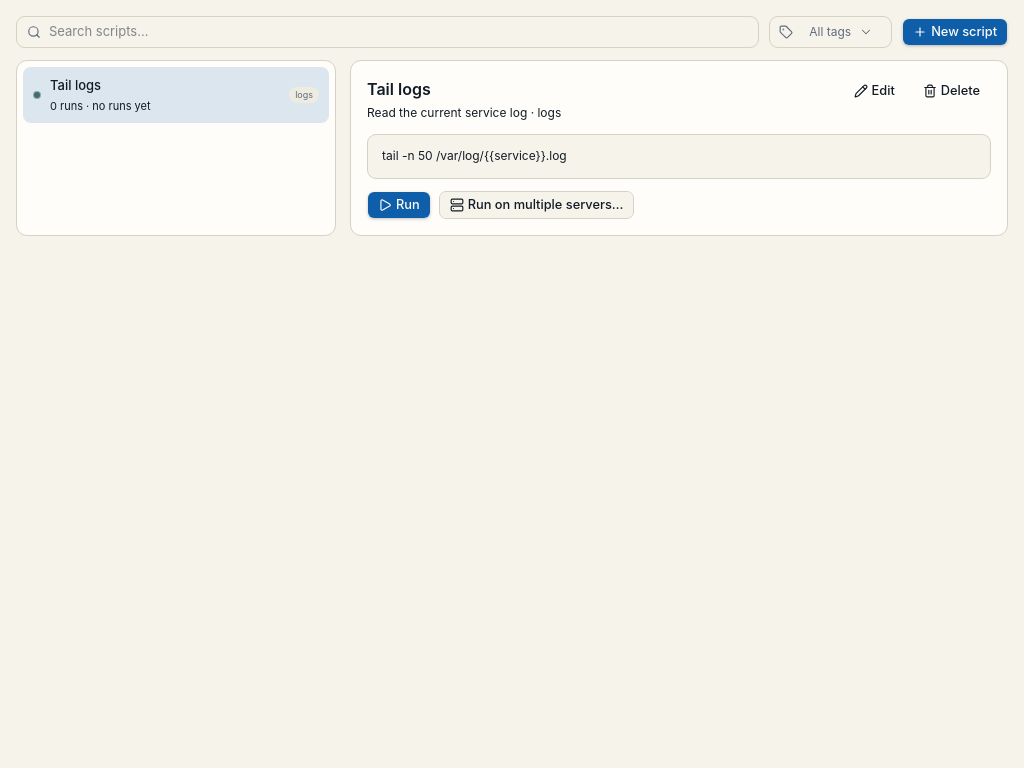
Test: Scripts workspace › closes an owned run channel when the view unmounts
The width and height of the screenshot is (1024, 768).
Click the button "Run": (399, 205) [367,191,431,219]
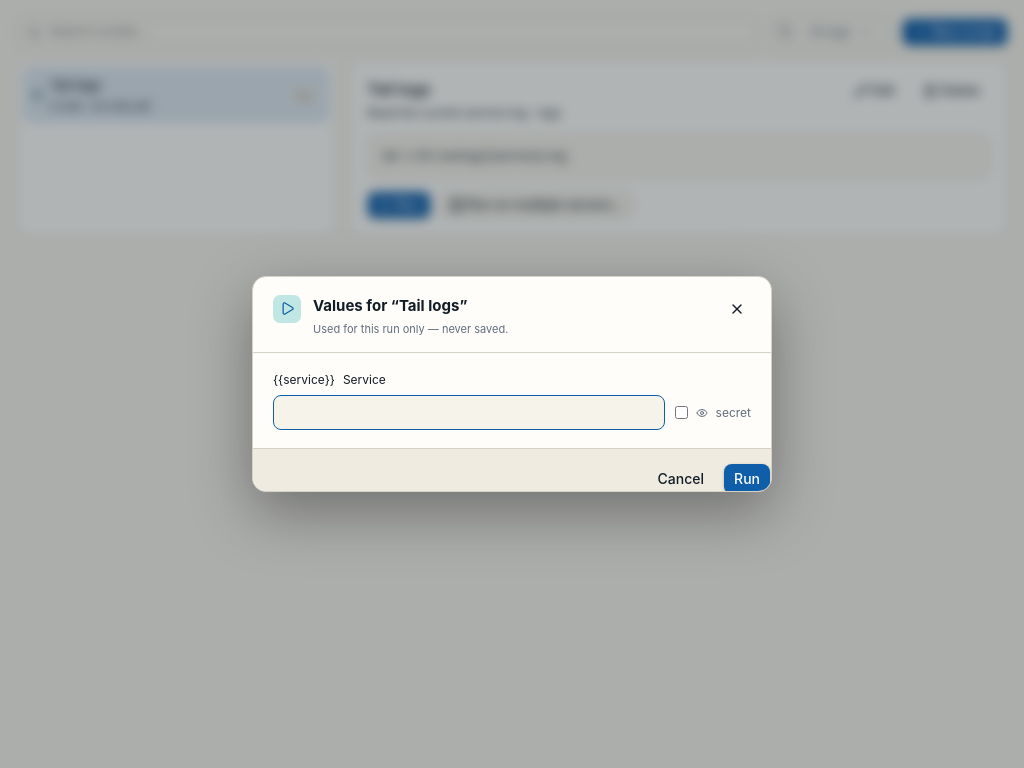
In the field labelled "{{service}} Service": (469, 413) [273,395,665,430], type "nginx"
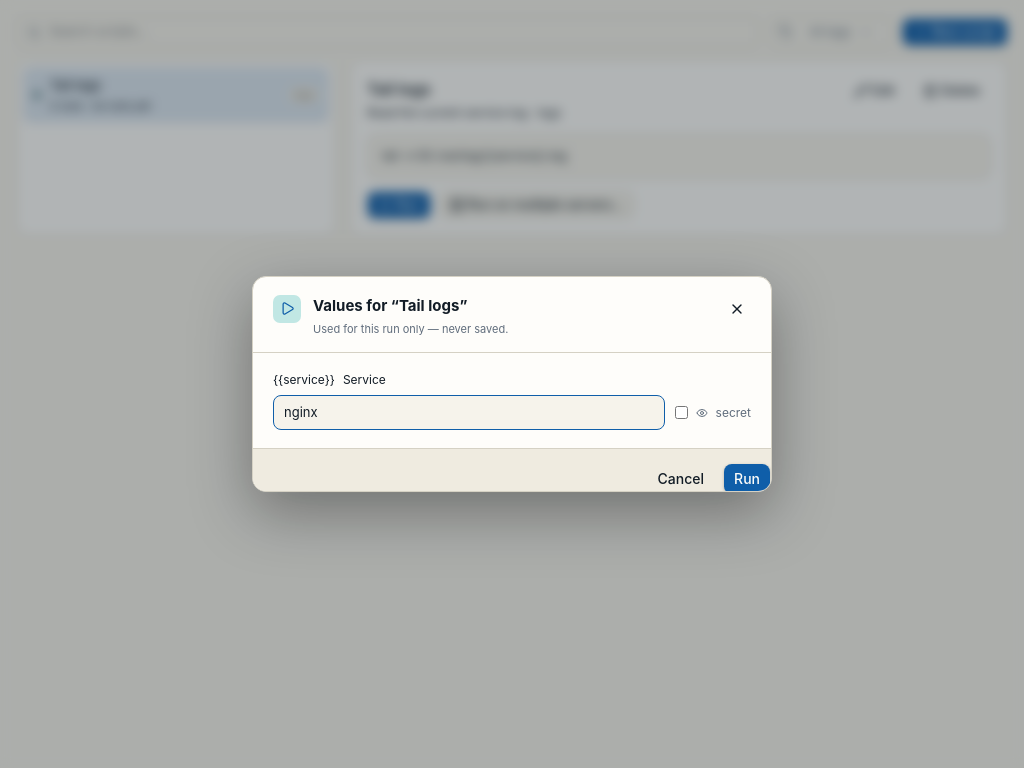
Click the button "Run": (747, 479) [723,463,771,495]
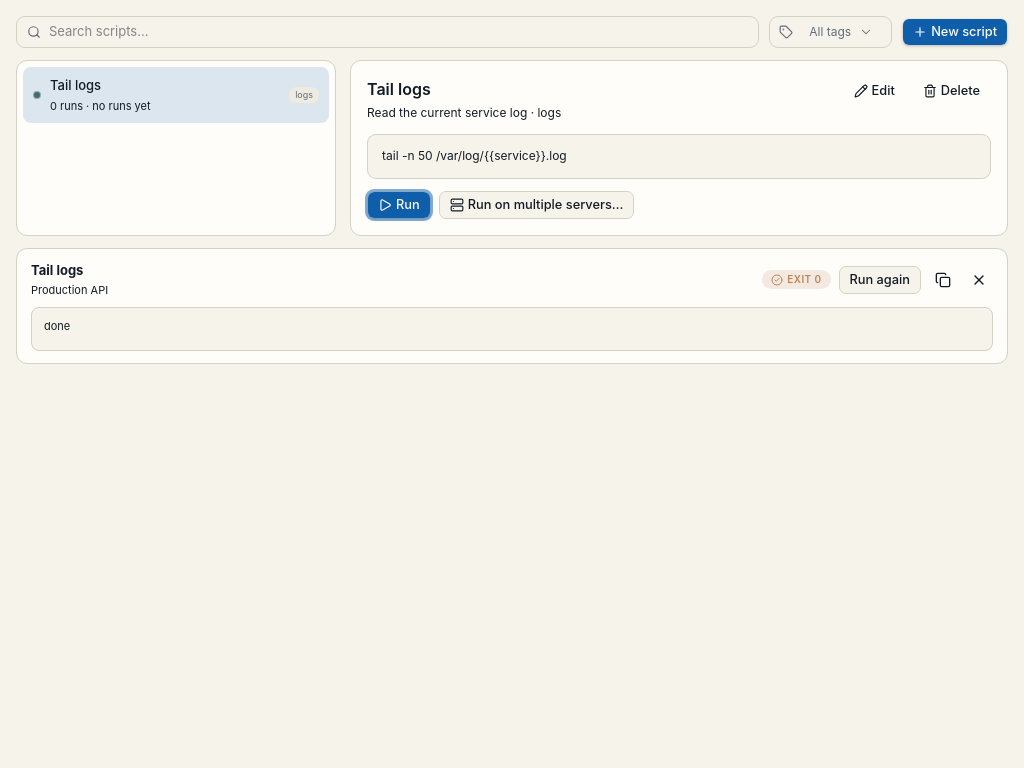
Now the text "done" is shown, box [31,307,993,351]
